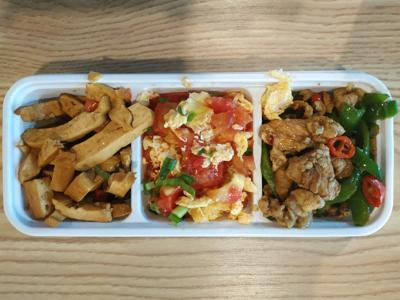cqj: (266, 83, 396, 230)
jdxhs: (145, 87, 256, 229)
